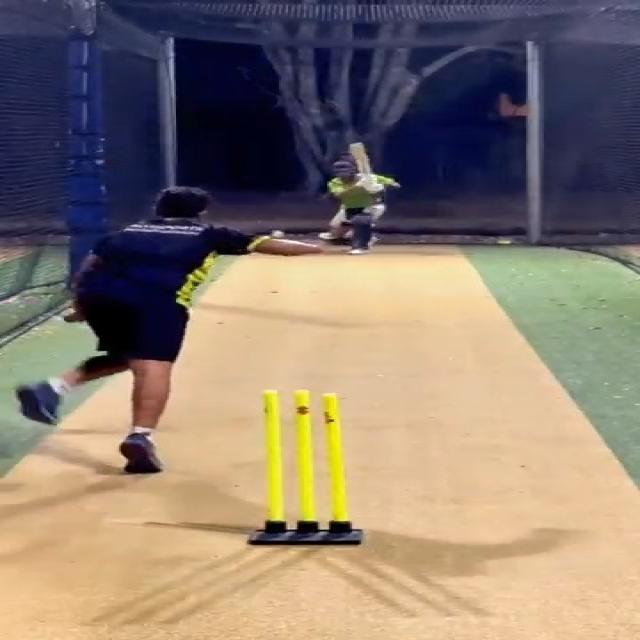ball: (270, 229, 286, 239)
stump: (246, 390, 364, 546)
